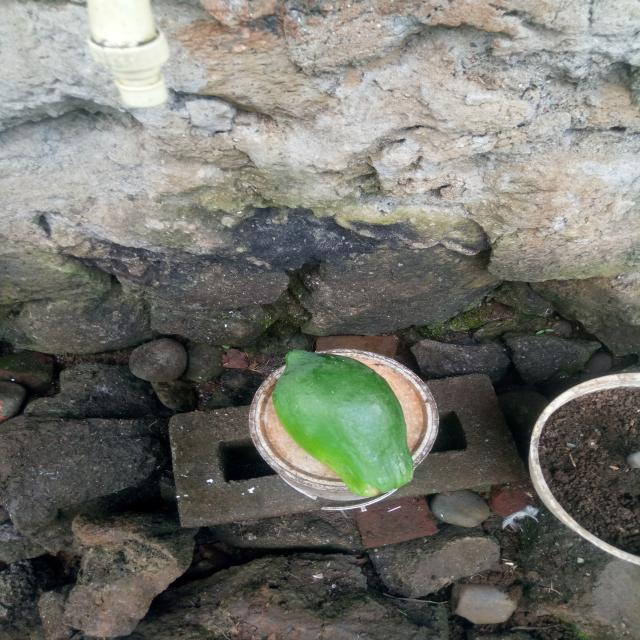Pepaya unrippen: (268, 345, 419, 500)
